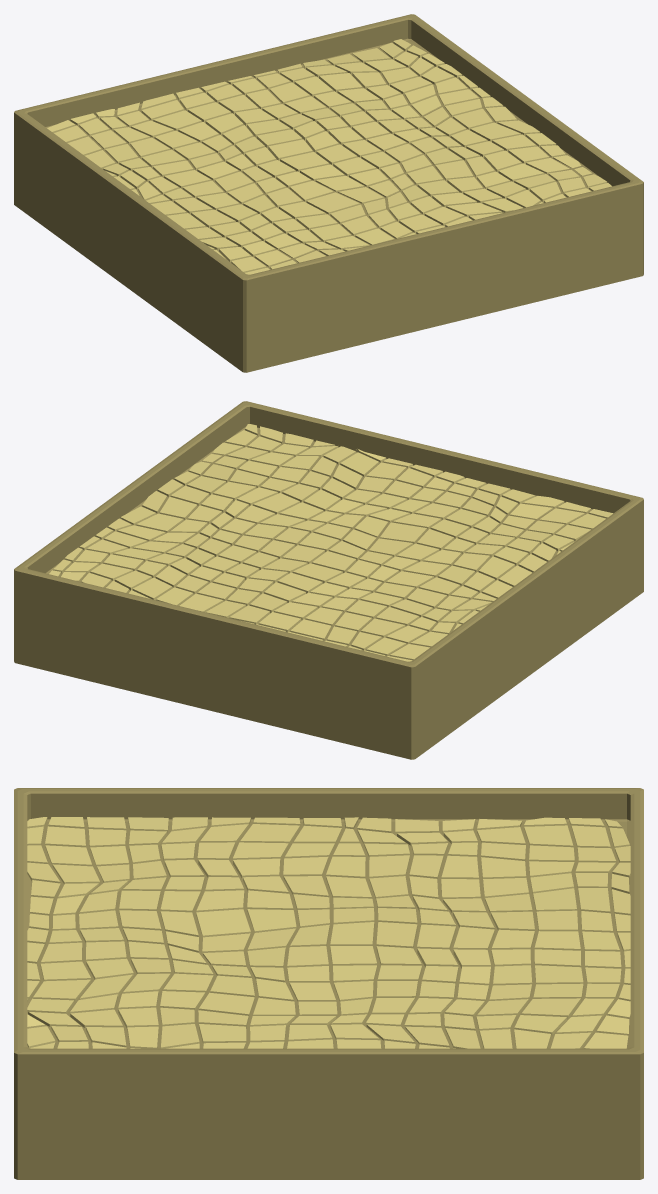
The model's file is rooftop_simple.glb.
3 renders of one model, top to bottom at view 1: azimuth 30°, elevation 25°; view 2: azimuth 150°, elevation 25°; view 3: azimuth 270°, elevation 25°, orthographic. The views are drawn at different scales.
Parts seen in each view (by area): view 1: Cube, Plane; view 2: Cube, Plane; view 3: Plane, Cube.
Boxes of the visible parts, x1=… form: Cube: x1=14, y1=14, x2=643, y2=372; Plane: x1=47, y1=39, x2=611, y2=274; Cube: x1=14, y1=401, x2=643, y2=759; Plane: x1=49, y1=424, x2=613, y2=661; Plane: x1=27, y1=817, x2=630, y2=1048; Cube: x1=14, y1=788, x2=643, y2=1179.
Bounding box in the file's own units: 20 × 4.43 × 20.
